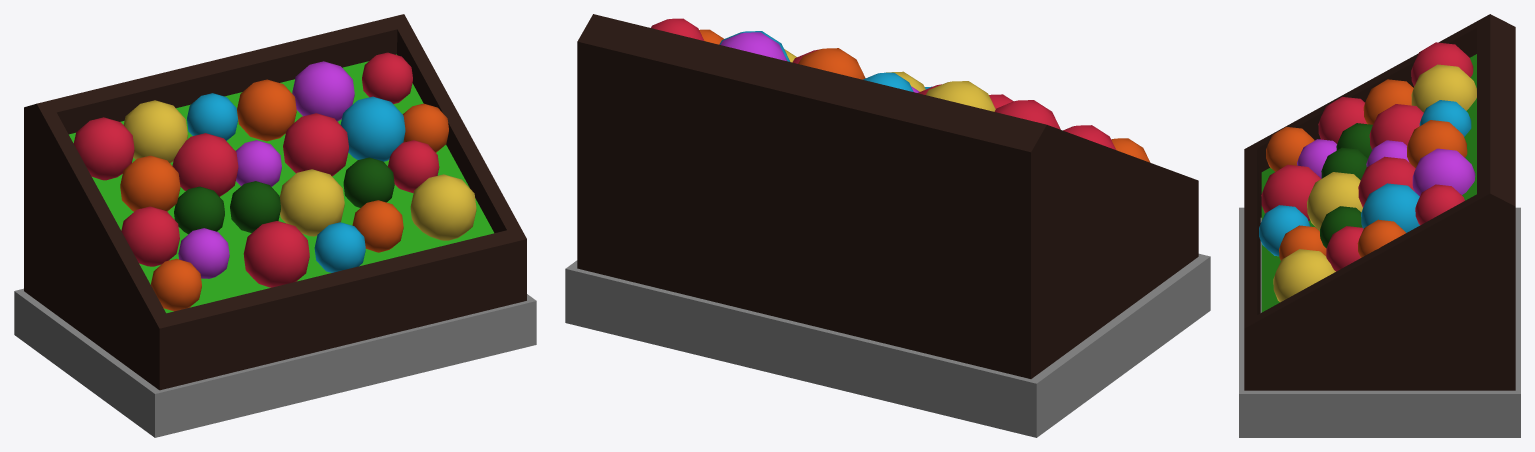
File: Foodbox2.FBX
The picture shows the model from 3 angles, left to right: view 1: azimuth 30°, elevation 25°; view 2: azimuth 150°, elevation 25°; view 3: azimuth 270°, elevation 25°; orthographic projection. The views are drawn at different scales.
Visible parts, largest first — view 1: foodbucket2; view 2: foodbucket2; view 3: foodbucket2.
Boxes of the visible parts, box(x1,y1,x2,y2) form: foodbucket2: box(14, 14, 536, 437); foodbucket2: box(565, 14, 1210, 437); foodbucket2: box(1239, 14, 1520, 437).
Bounding box in the file's own units: 12.91 × 7.78 × 8.25.
